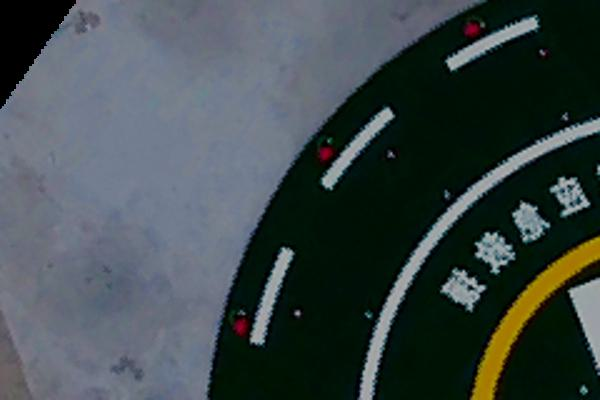Apron: (462, 223, 600, 400)
